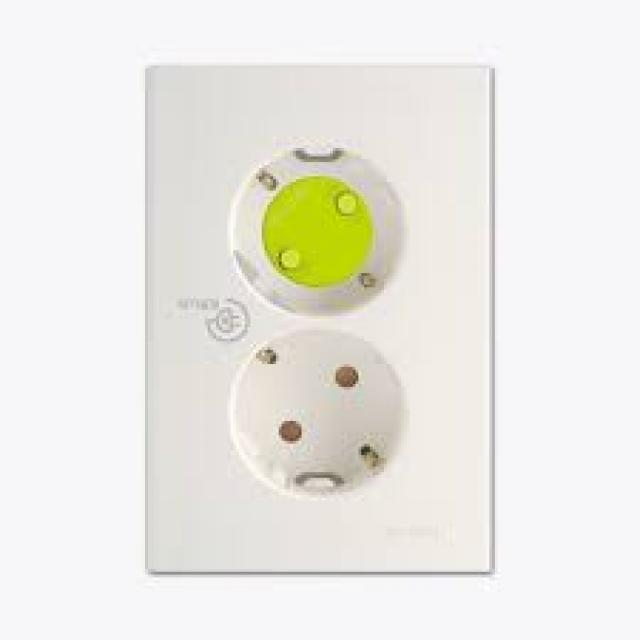typeb: (138, 43, 508, 593)
